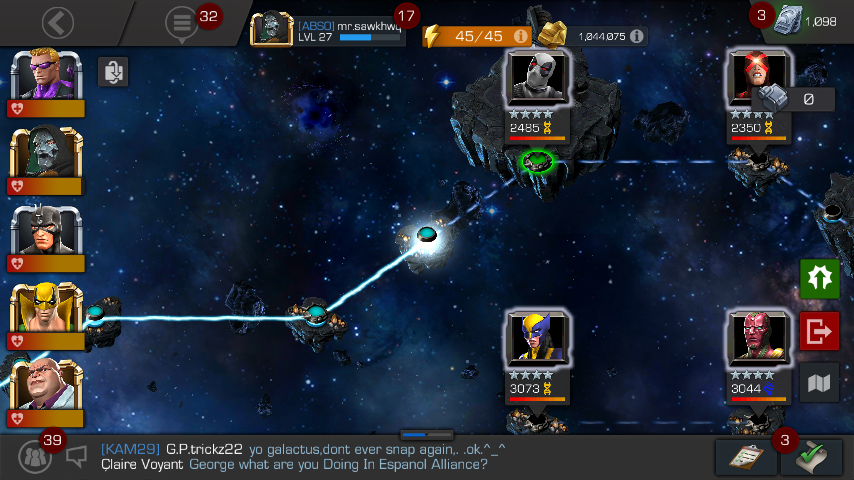green: (527, 153, 549, 168)
